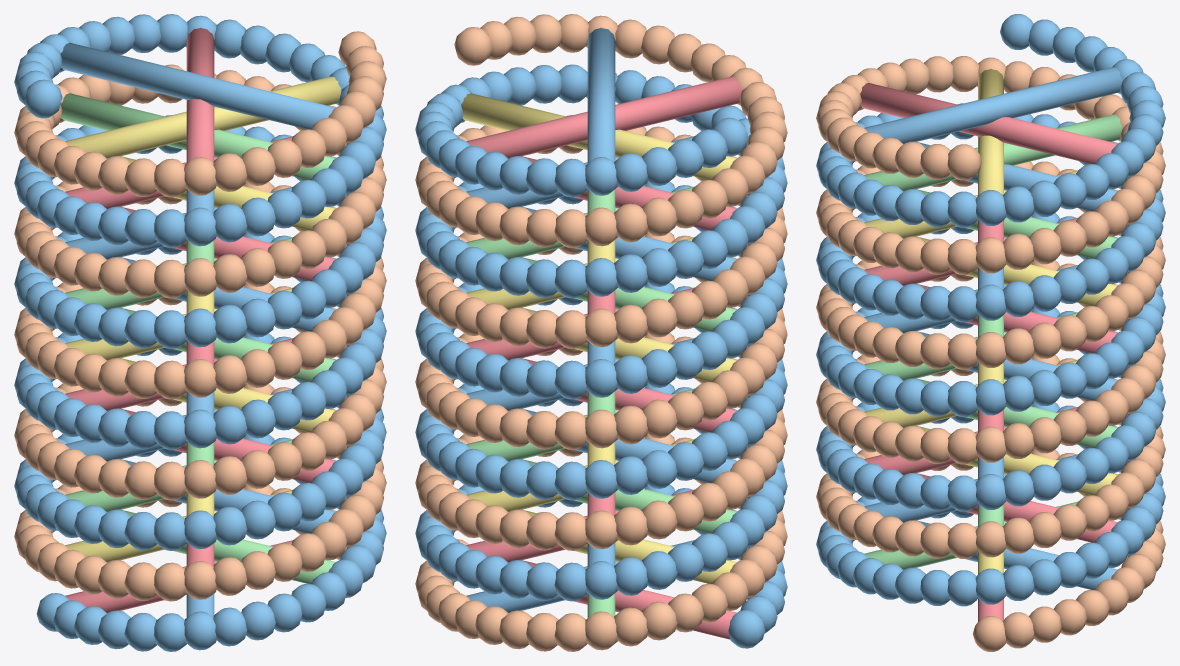
File: dna-helix.glb
The picture shows the model from 3 angles, left to right: view 1: azimuth 30°, elevation 25°; view 2: azimuth 150°, elevation 25°; view 3: azimuth 270°, elevation 25°; orthographic projection. The views are drawn at different scales.
Parts seen in each view (by area): view 1: BasePair_29_T, BasePair_27_C, BasePair_26_G, BasePair_28_A, BasePair_20_A, BasePair_14_G, BasePair_02_G, BasePair_08_A, BasePair_23_C, BasePair_17_T, BasePair_11_C, BasePair_05_T (+173 smaller); view 2: BasePair_28_A, BasePair_29_T, BasePair_27_C, BasePair_00_A, BasePair_21_T, BasePair_15_C, BasePair_03_C, BasePair_09_T, BasePair_18_G, BasePair_24_A, BasePair_06_G, BasePair_12_A (+178 smaller); view 3: BasePair_29_T, BasePair_28_A, BasePair_26_G, BasePair_27_C, BasePair_25_T, BasePair_19_C, BasePair_01_T, BasePair_10_G, BasePair_07_C, BasePair_16_A, BasePair_22_G, BasePair_04_A (+174 smaller).
Part boxes in pixels (<box>): BasePair_29_T: <box>60,42,335,129</box>; BasePair_27_C: <box>65,76,340,158</box>; BasePair_26_G: <box>60,93,335,180</box>; BasePair_28_A: <box>186,27,214,162</box>; BasePair_20_A: <box>121,206,335,281</box>; BasePair_14_G: <box>121,307,335,382</box>; BasePair_02_G: <box>121,509,335,584</box>; BasePair_08_A: <box>121,408,335,483</box>; BasePair_23_C: <box>121,156,335,230</box>; BasePair_17_T: <box>121,257,335,331</box>; BasePair_11_C: <box>121,358,335,432</box>; BasePair_05_T: <box>121,459,335,533</box>; BasePair_28_A: <box>466,76,742,158</box>; BasePair_29_T: <box>587,27,615,163</box>; BasePair_27_C: <box>461,93,736,179</box>; BasePair_00_A: <box>523,560,736,639</box>; BasePair_21_T: <box>522,206,736,280</box>; BasePair_15_C: <box>522,307,736,381</box>; BasePair_03_C: <box>522,509,736,583</box>; BasePair_09_T: <box>522,408,736,482</box>; BasePair_18_G: <box>523,257,736,331</box>; BasePair_24_A: <box>523,156,736,230</box>; BasePair_06_G: <box>523,459,736,533</box>; BasePair_12_A: <box>523,358,736,432</box>; BasePair_29_T: <box>864,67,1122,143</box>; BasePair_28_A: <box>860,83,1117,163</box>; BasePair_26_G: <box>864,114,1122,191</box>; BasePair_27_C: <box>978,68,1003,195</box>; BasePair_25_T: <box>917,142,1117,211</box>; BasePair_19_C: <box>917,236,1117,305</box>; BasePair_01_T: <box>917,520,1117,589</box>; BasePair_10_G: <box>917,378,1117,447</box>; BasePair_07_C: <box>917,426,1117,495</box>; BasePair_16_A: <box>917,284,1117,353</box>; BasePair_22_G: <box>917,189,1117,258</box>; BasePair_04_A: <box>917,473,1117,542</box>.
Size of the model in its own units: 1.33 by 2.13 by 1.34.
